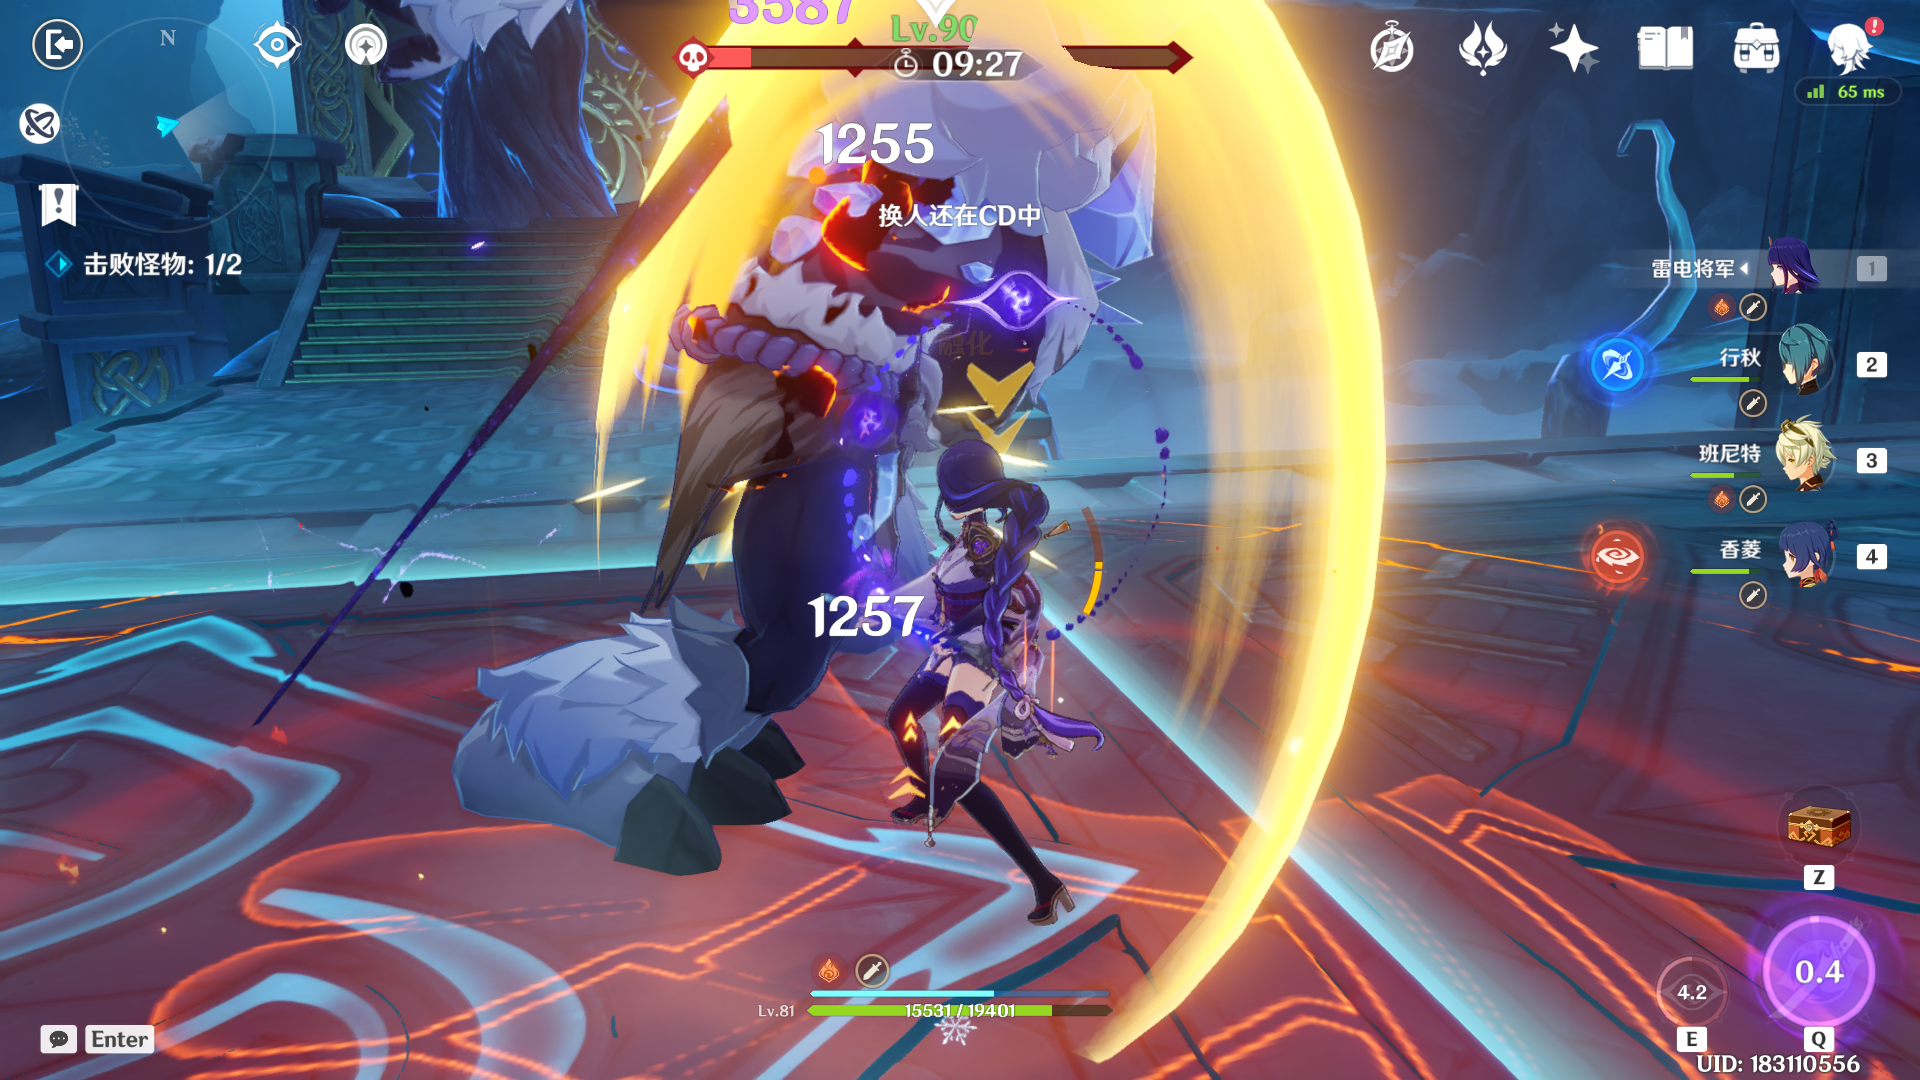bosshili: (334, 1, 1329, 953)
character: (836, 410, 1164, 981)
